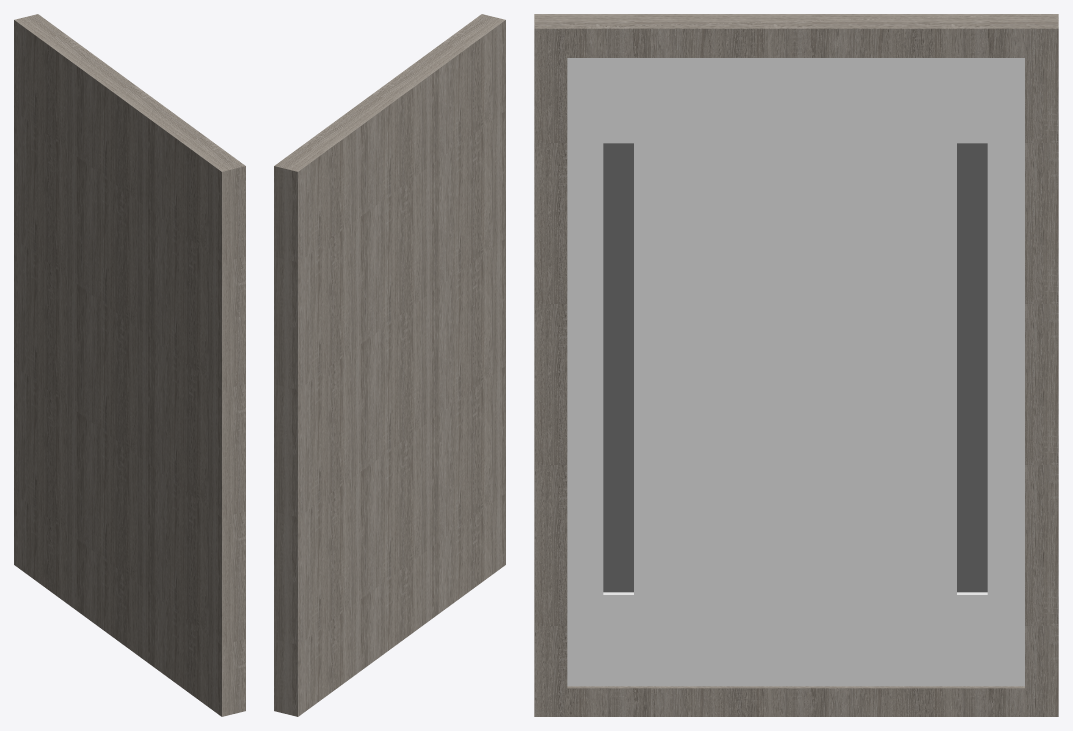
File: Spiegel.glb
The picture shows the model from 3 angles, left to right: view 1: azimuth 30°, elevation 25°; view 2: azimuth 150°, elevation 25°; view 3: azimuth 270°, elevation 25°; orthographic projection. The views are drawn at different scales.
Visible parts, largest first — view 1: Mesh1 Component_253 G_21_Spiegel_dwg1 Model; view 2: Mesh1 Component_253 G_21_Spiegel_dwg1 Model; view 3: Mesh2 Component_254 G_21_Spiegel_dwg1 Model, Mesh1 Component_253 G_21_Spiegel_dwg1 Model, Mesh3 Component_255 G_21_Spiegel_dwg1 Model.
Part boxes in pixels (x1,y1,x2,y2): Mesh1 Component_253 G_21_Spiegel_dwg1 Model: [14, 14, 245, 716]; Mesh1 Component_253 G_21_Spiegel_dwg1 Model: [274, 14, 505, 716]; Mesh2 Component_254 G_21_Spiegel_dwg1 Model: [567, 58, 1024, 686]; Mesh1 Component_253 G_21_Spiegel_dwg1 Model: [534, 14, 1058, 716]; Mesh3 Component_255 G_21_Spiegel_dwg1 Model: [603, 143, 987, 592].
Size of the model in its own units: 5 by 109 by 75.
Materials: 3 (1 with a texture image).
